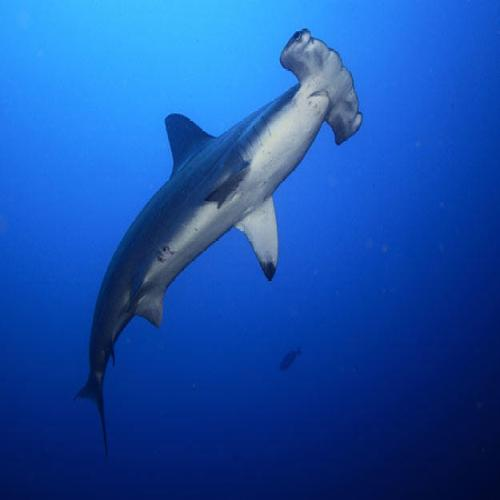shark-endangered: (75, 27, 363, 463)
